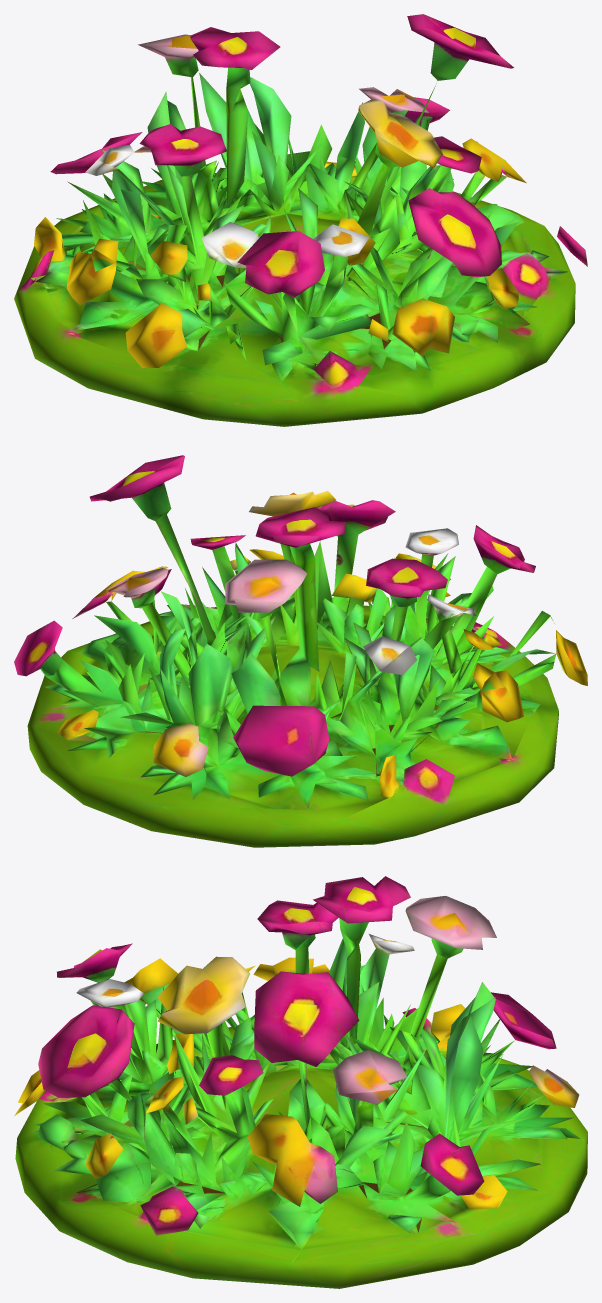
The model's file is small-decorative-flower.glb.
3 renders of one model, top to bottom at view 1: azimuth 30°, elevation 25°; view 2: azimuth 150°, elevation 25°; view 3: azimuth 270°, elevation 25°, orthographic. The views are drawn at different scales.
Bounding box in the file's own units: 1.89 × 0.9458 × 1.86.
1 material, 1 textured.
